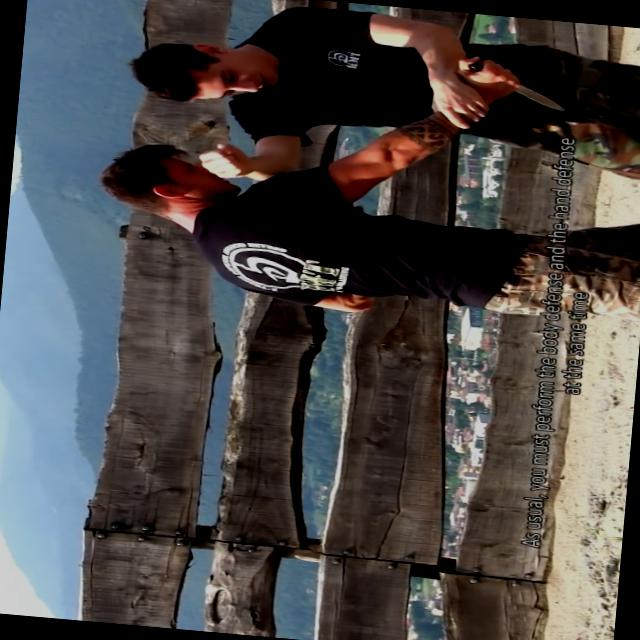knife: (450, 52, 576, 114)
